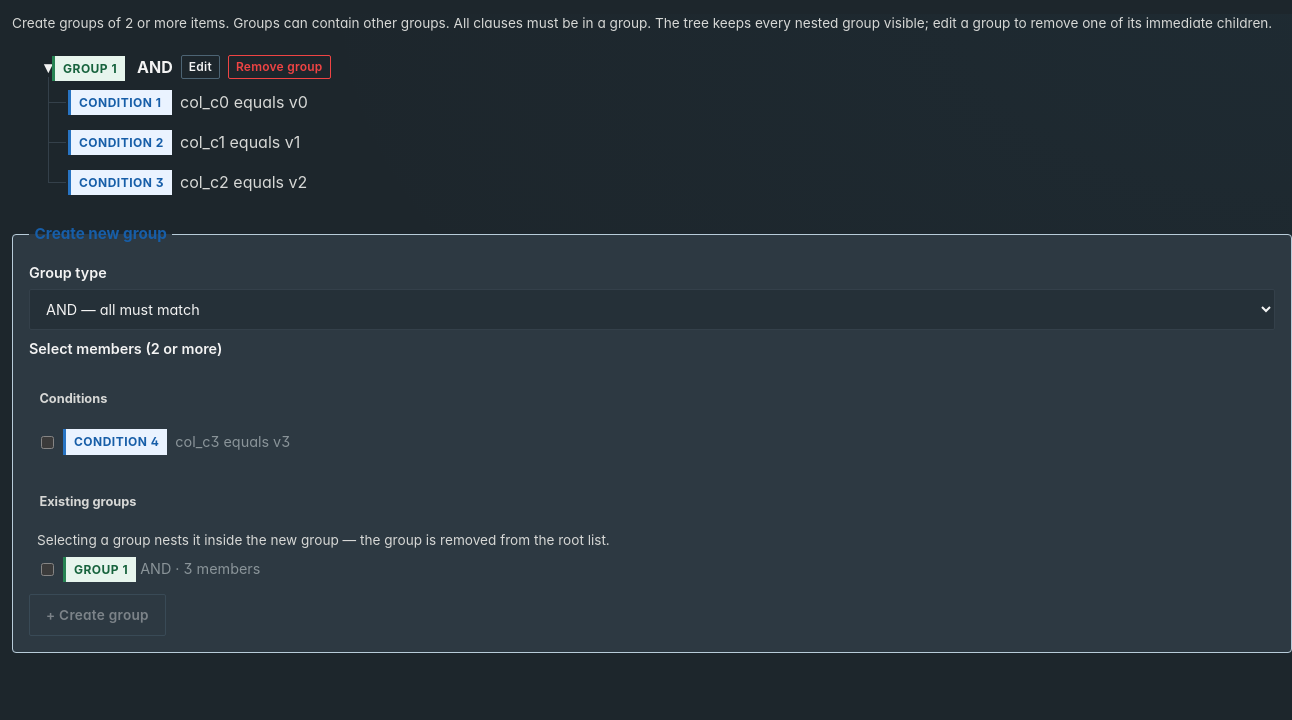
Test: GroupingTreeEditor (per_grouping) — multi-group behaviour › edits only immediate children and removes a group when fewer than two remain
Click the button with aria-label "Edit Group 1" at point(200, 67), box [181,55,220,79]
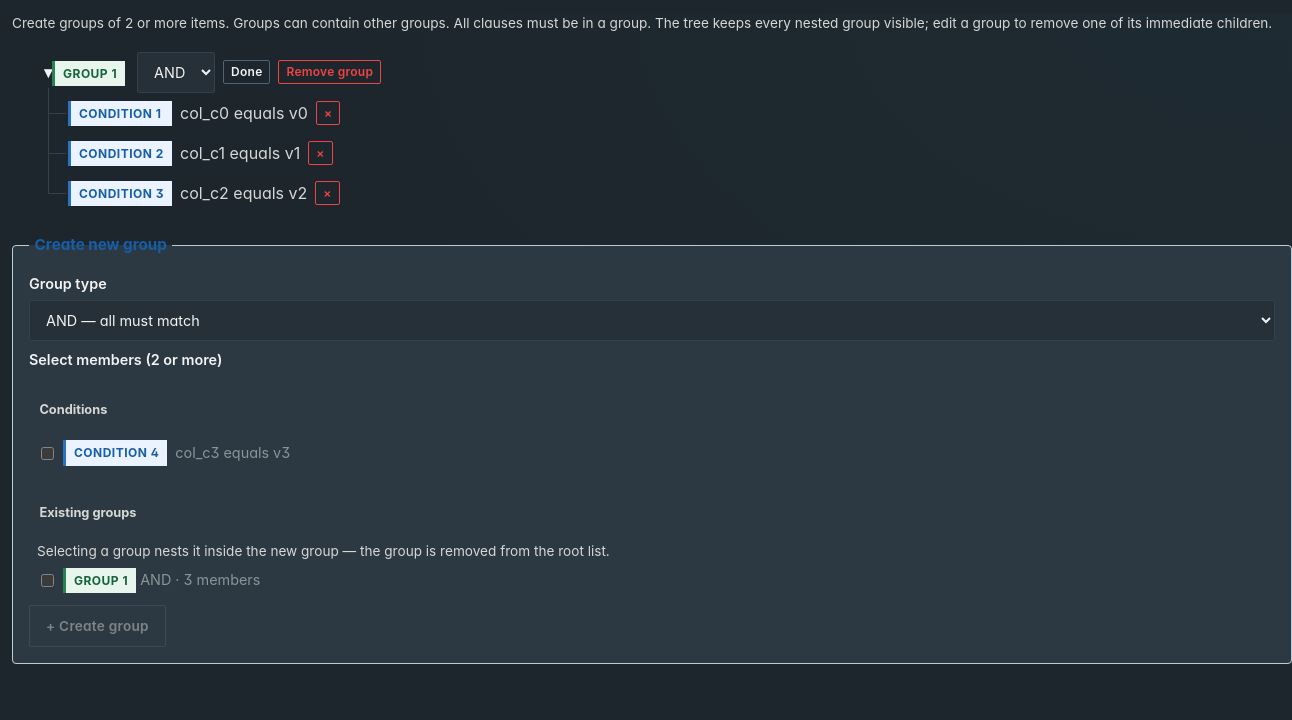
Check: the button named "Remove Condition 1: col_c0 equals v0 from Group 1" is shown
Check: the button named "Remove Condition 2: col_c1 equals v1 from Group 1" is shown, box [308,141,332,165]
Check: the button named "Remove Condition 3: col_c2 equals v2 from Group 1" is shown, box [315,181,340,205]
Click the button named "Remove Condition 1: col_c0 equals v0 from Group 1" at point(328, 113), box [316,101,340,125]
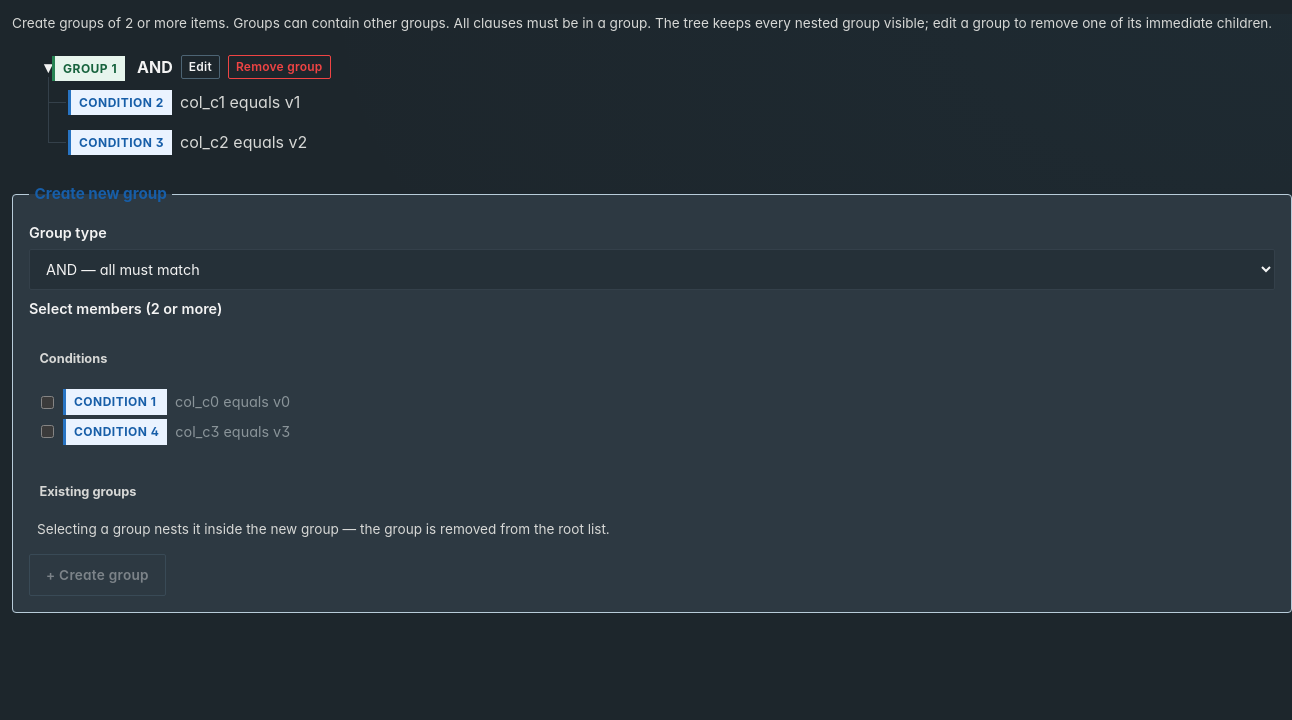
Check: the text "Group 1" is shown, box [52,56,125,81]
Click the button with aria-label "Edit Group 1" at point(200, 67), box [181,55,220,79]
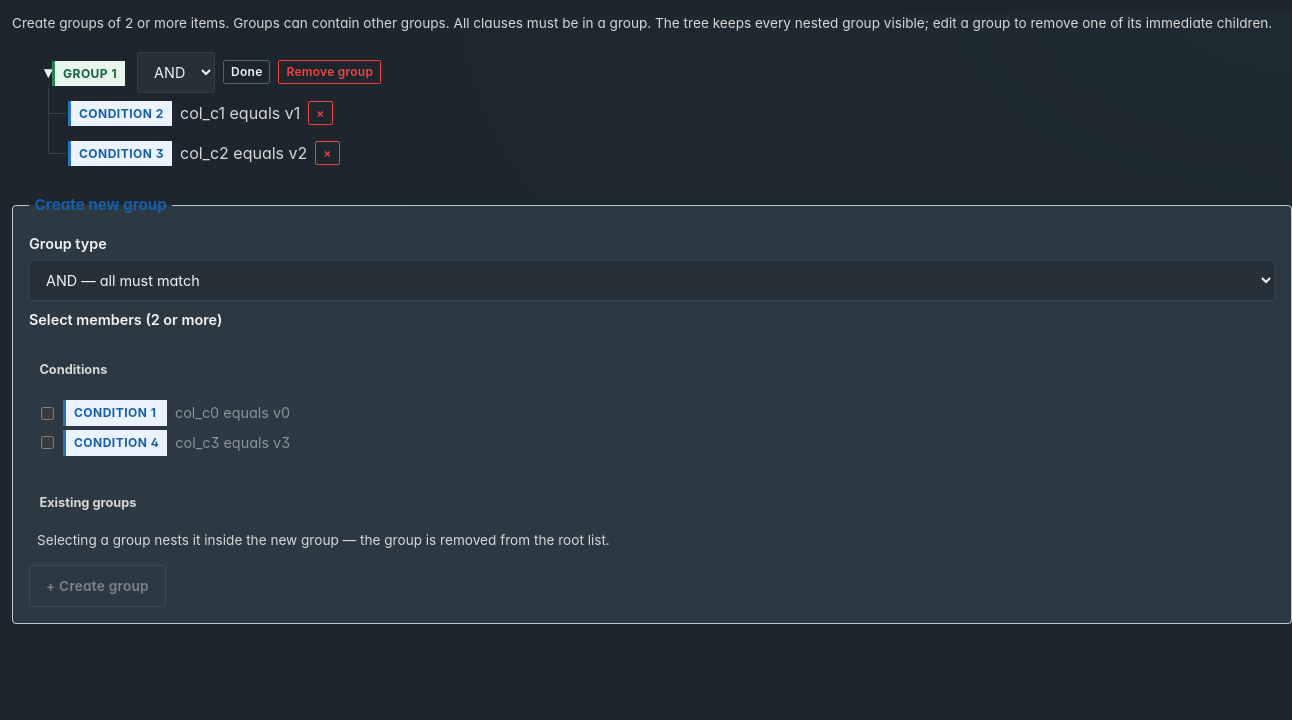
Click the button named "Remove Condition 2: col_c1 equals v1 from Group 1" at point(320, 113), box [308,101,332,125]
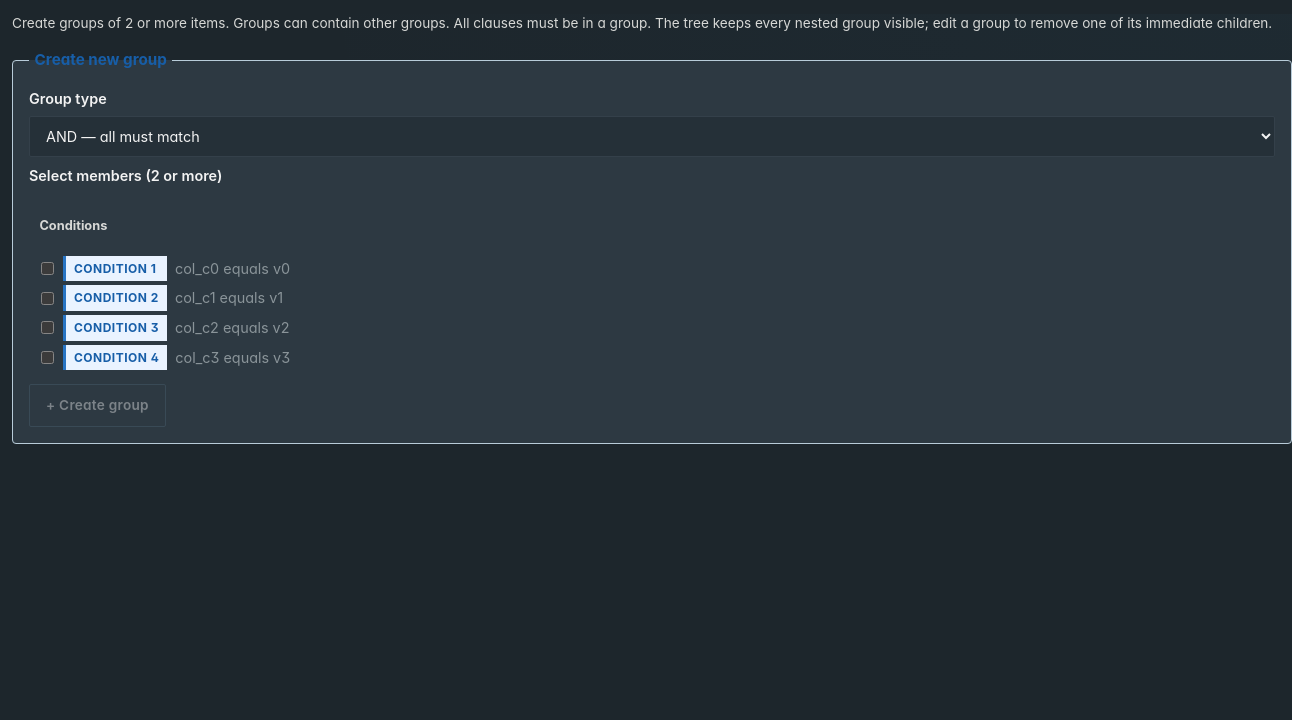
Check: the button "Group 1" is gone
